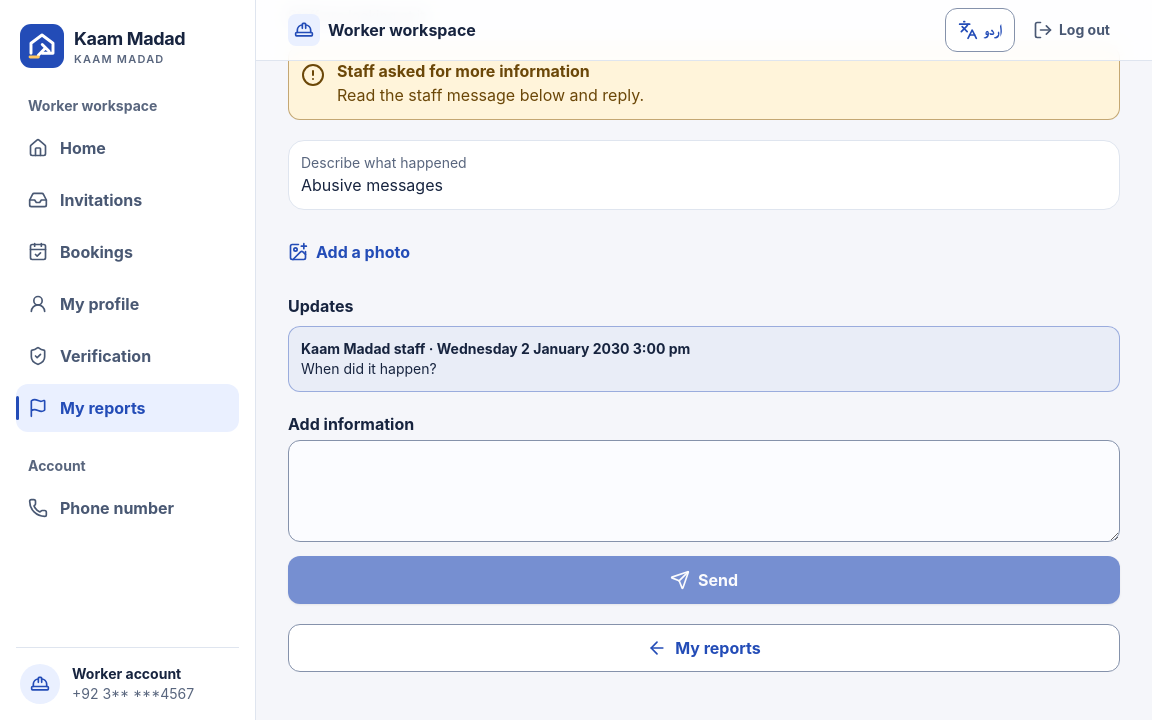
Test case: reporting a concern › shows the staff message meant for the reporter and sends a reply
(page scrolled)
Expected: the text "Staff asked for more information" is shown, [337,61,590,81]
Expected: the text "When did it happen?" is shown, [301,360,437,377]
Type "Last Tuesday evening" into the text box labelled "Add information".
click(704, 491); type("Last Tuesday evening")  # box [288,440,1120,542]
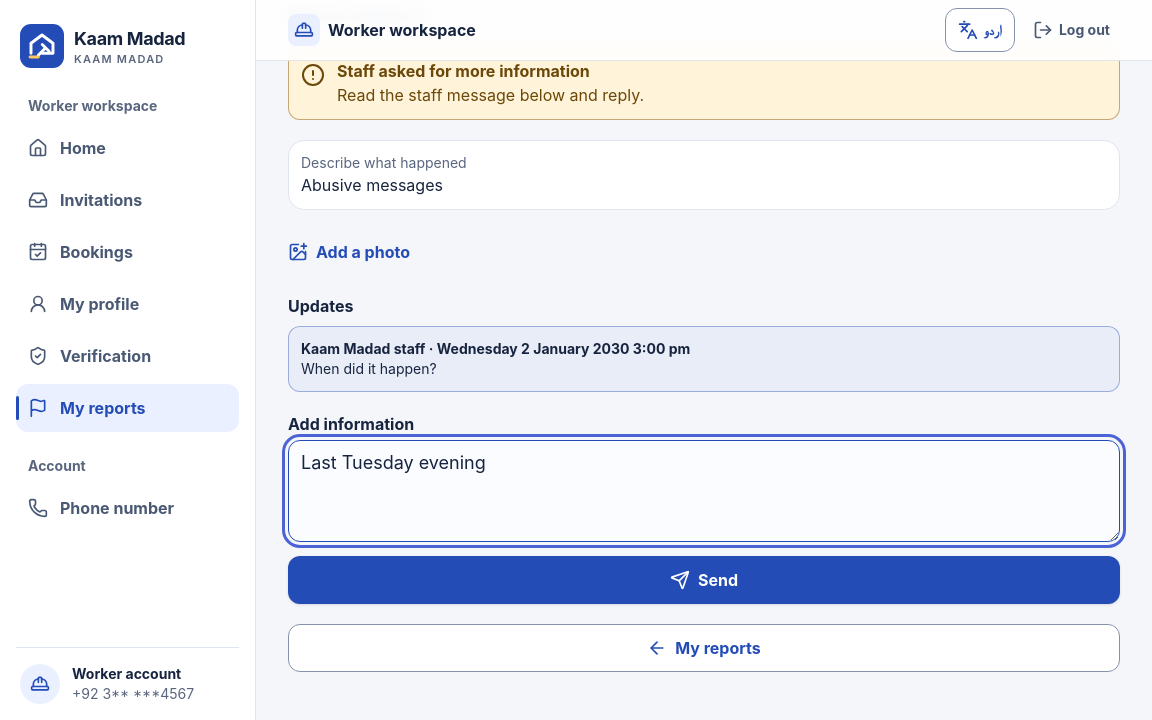
Click the button "Send".
click(704, 580)  # box [288,556,1120,604]
(page scrolled)
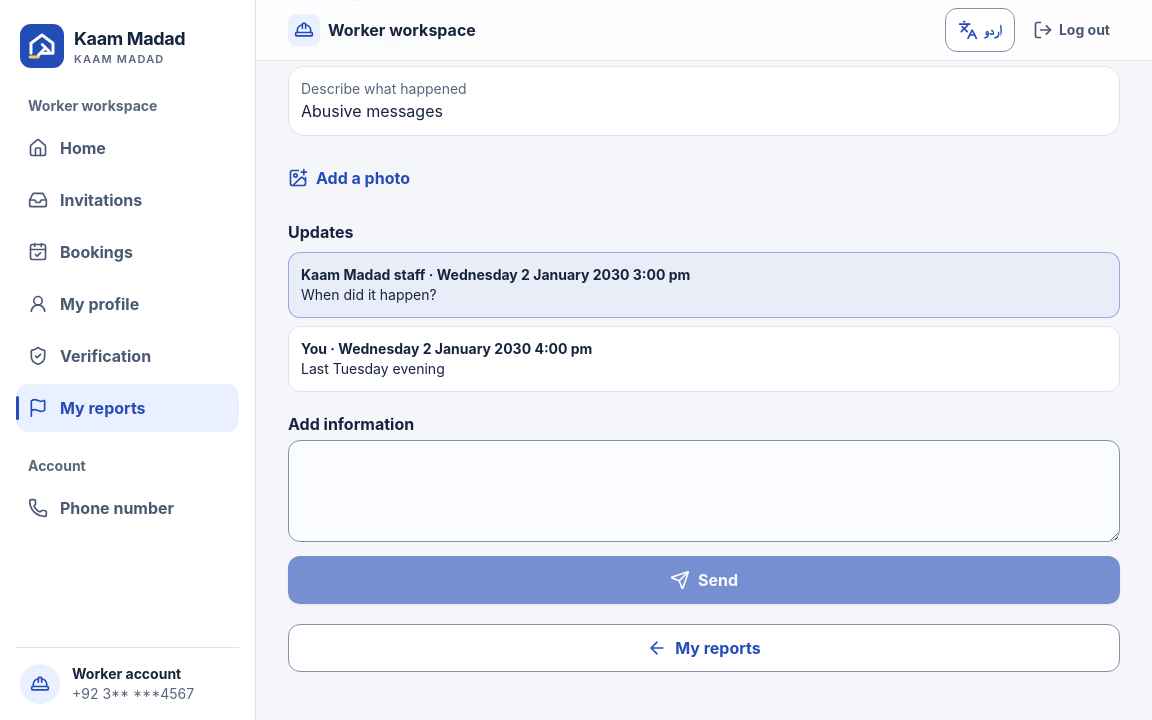
Expected: the text "Last Tuesday evening" is shown, [301,360,445,377]
Expected: the text "Staff asked for more information" is gone
